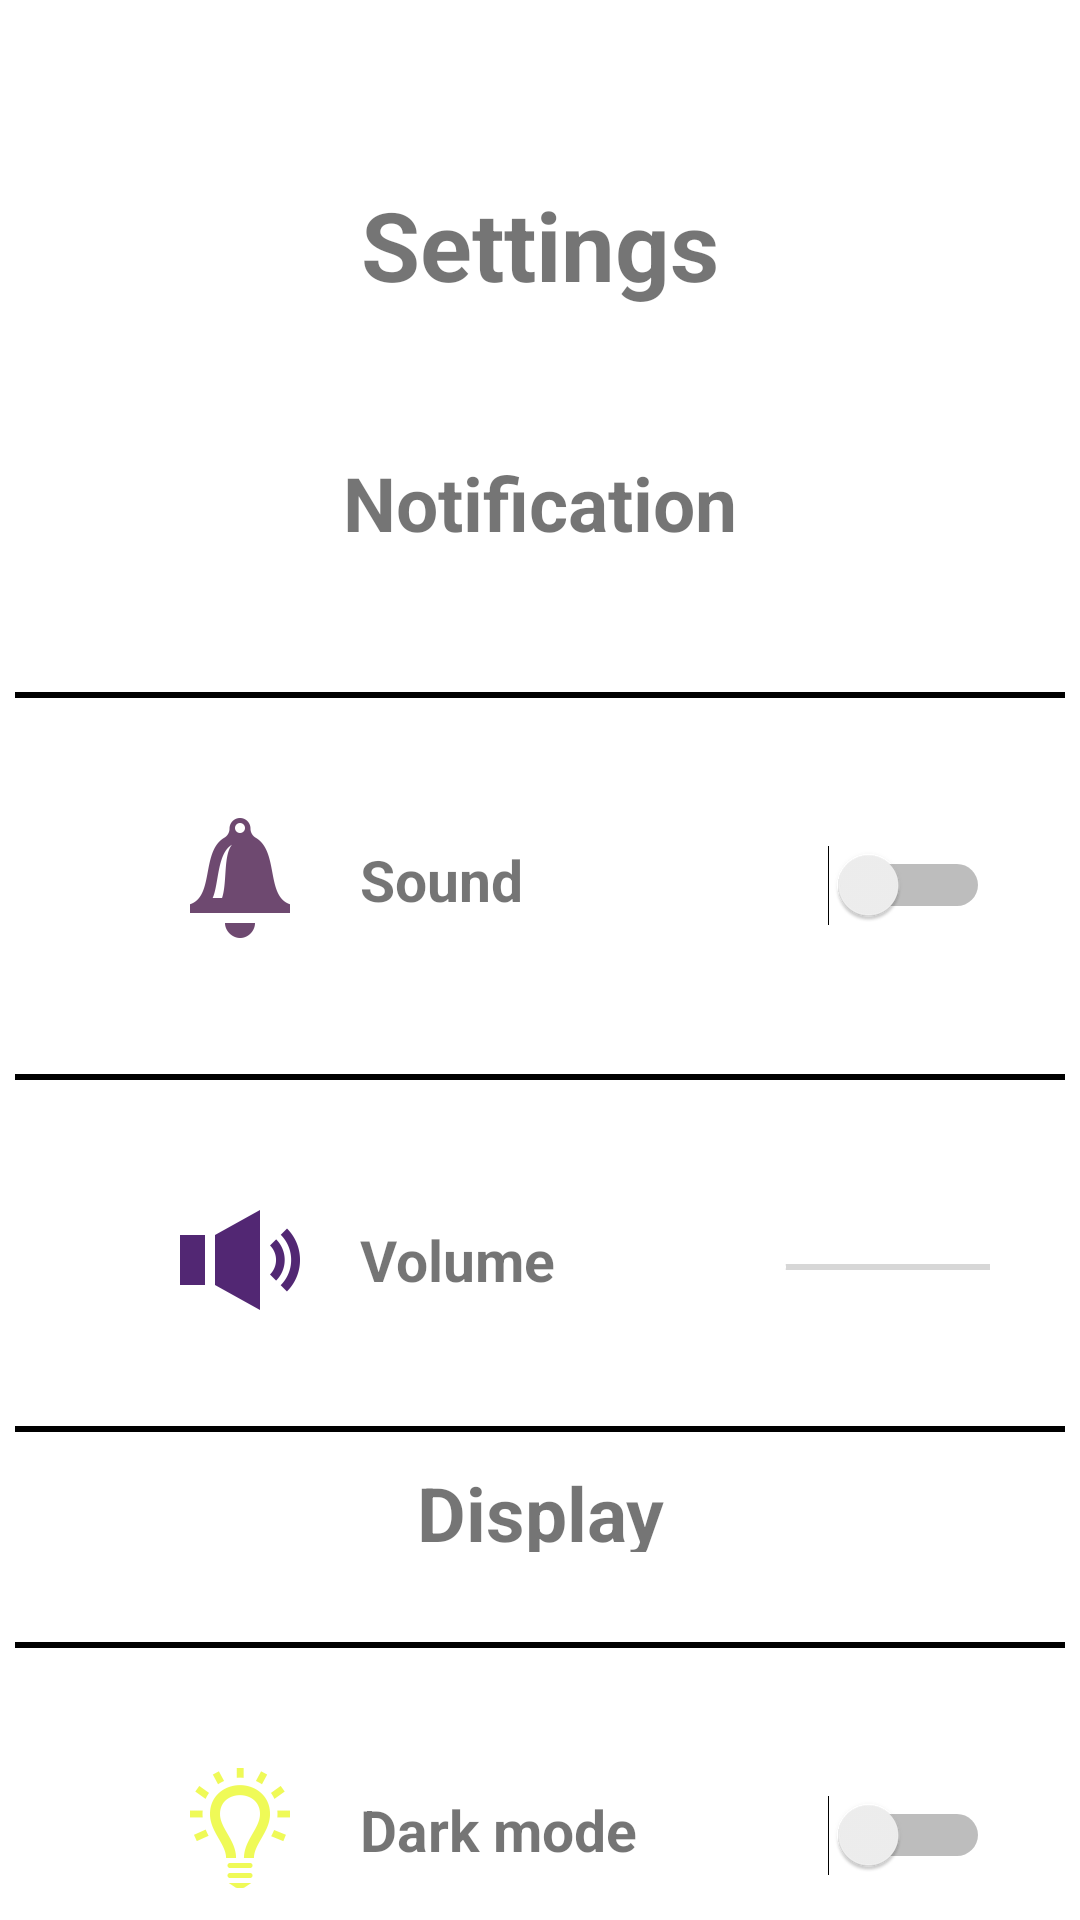

Named icons in this screenshot (1080x1920) and their centers, point (x, y):
bell: point (240, 878)
bulb: point (240, 1828)
